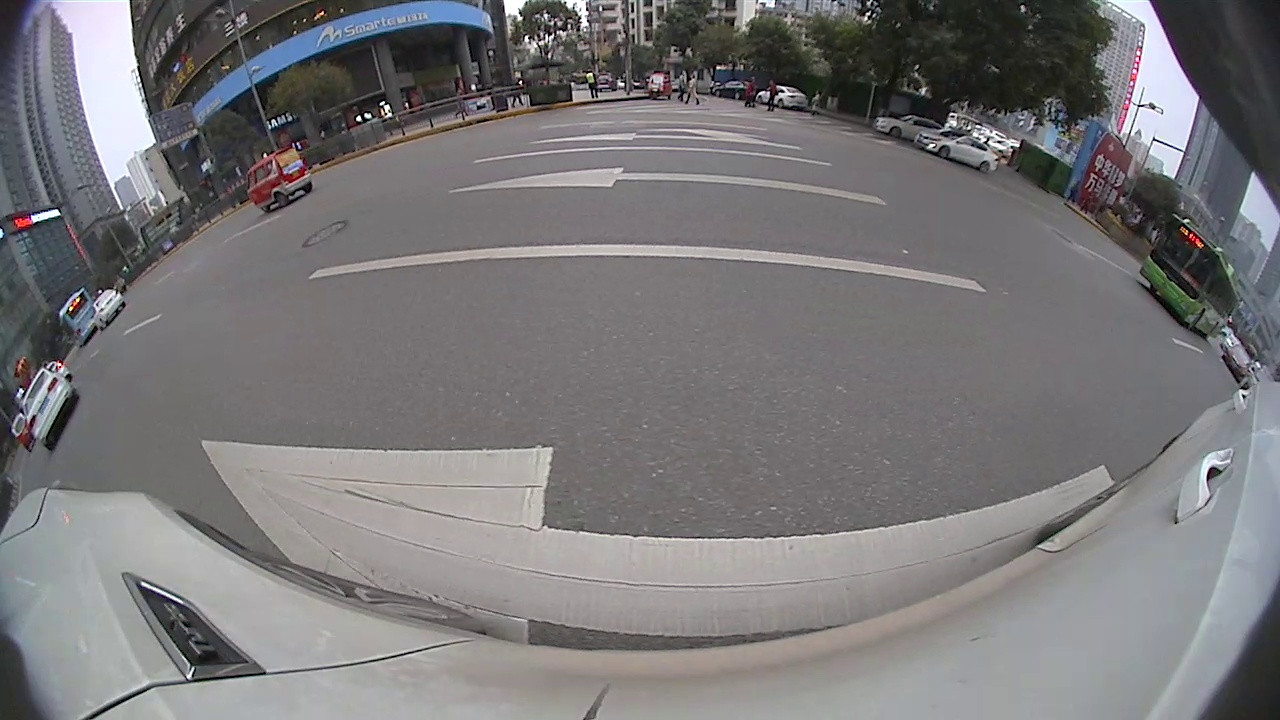bus: (1140, 214, 1243, 343), (58, 287, 100, 348)
car: (18, 366, 78, 453), (912, 125, 1001, 171), (872, 113, 943, 142), (1224, 342, 1257, 388), (757, 84, 808, 111)
front: (887, 123, 905, 141), (937, 145, 953, 160)
rear: (271, 189, 291, 209), (978, 159, 993, 177)
rider: (243, 144, 314, 216), (89, 286, 128, 330)
